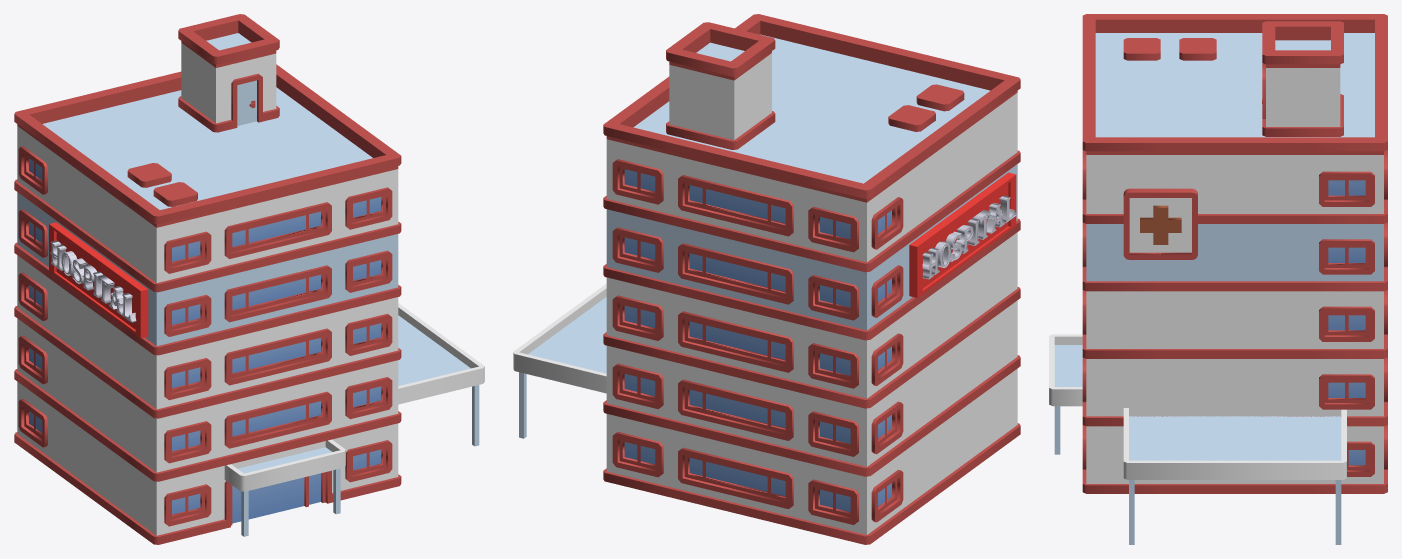
File: hospital.glb
3 views of the same model, side by side, from view 1: azimuth 30°, elevation 25°; view 2: azimuth 150°, elevation 25°; view 3: azimuth 270°, elevation 25° (orthographic). The views are drawn at different scales.
Visible parts, largest first — view 1: building-n; view 2: building-n; view 3: building-n.
Part boxes in pixels (bbox=[...]): building-n: bbox=[14, 14, 484, 544]; building-n: bbox=[513, 14, 1020, 544]; building-n: bbox=[1049, 14, 1387, 544].
Bounding box in the file's own units: 1.33 × 1.39 × 1.02.
Materials: 3 (1 with a texture image).
